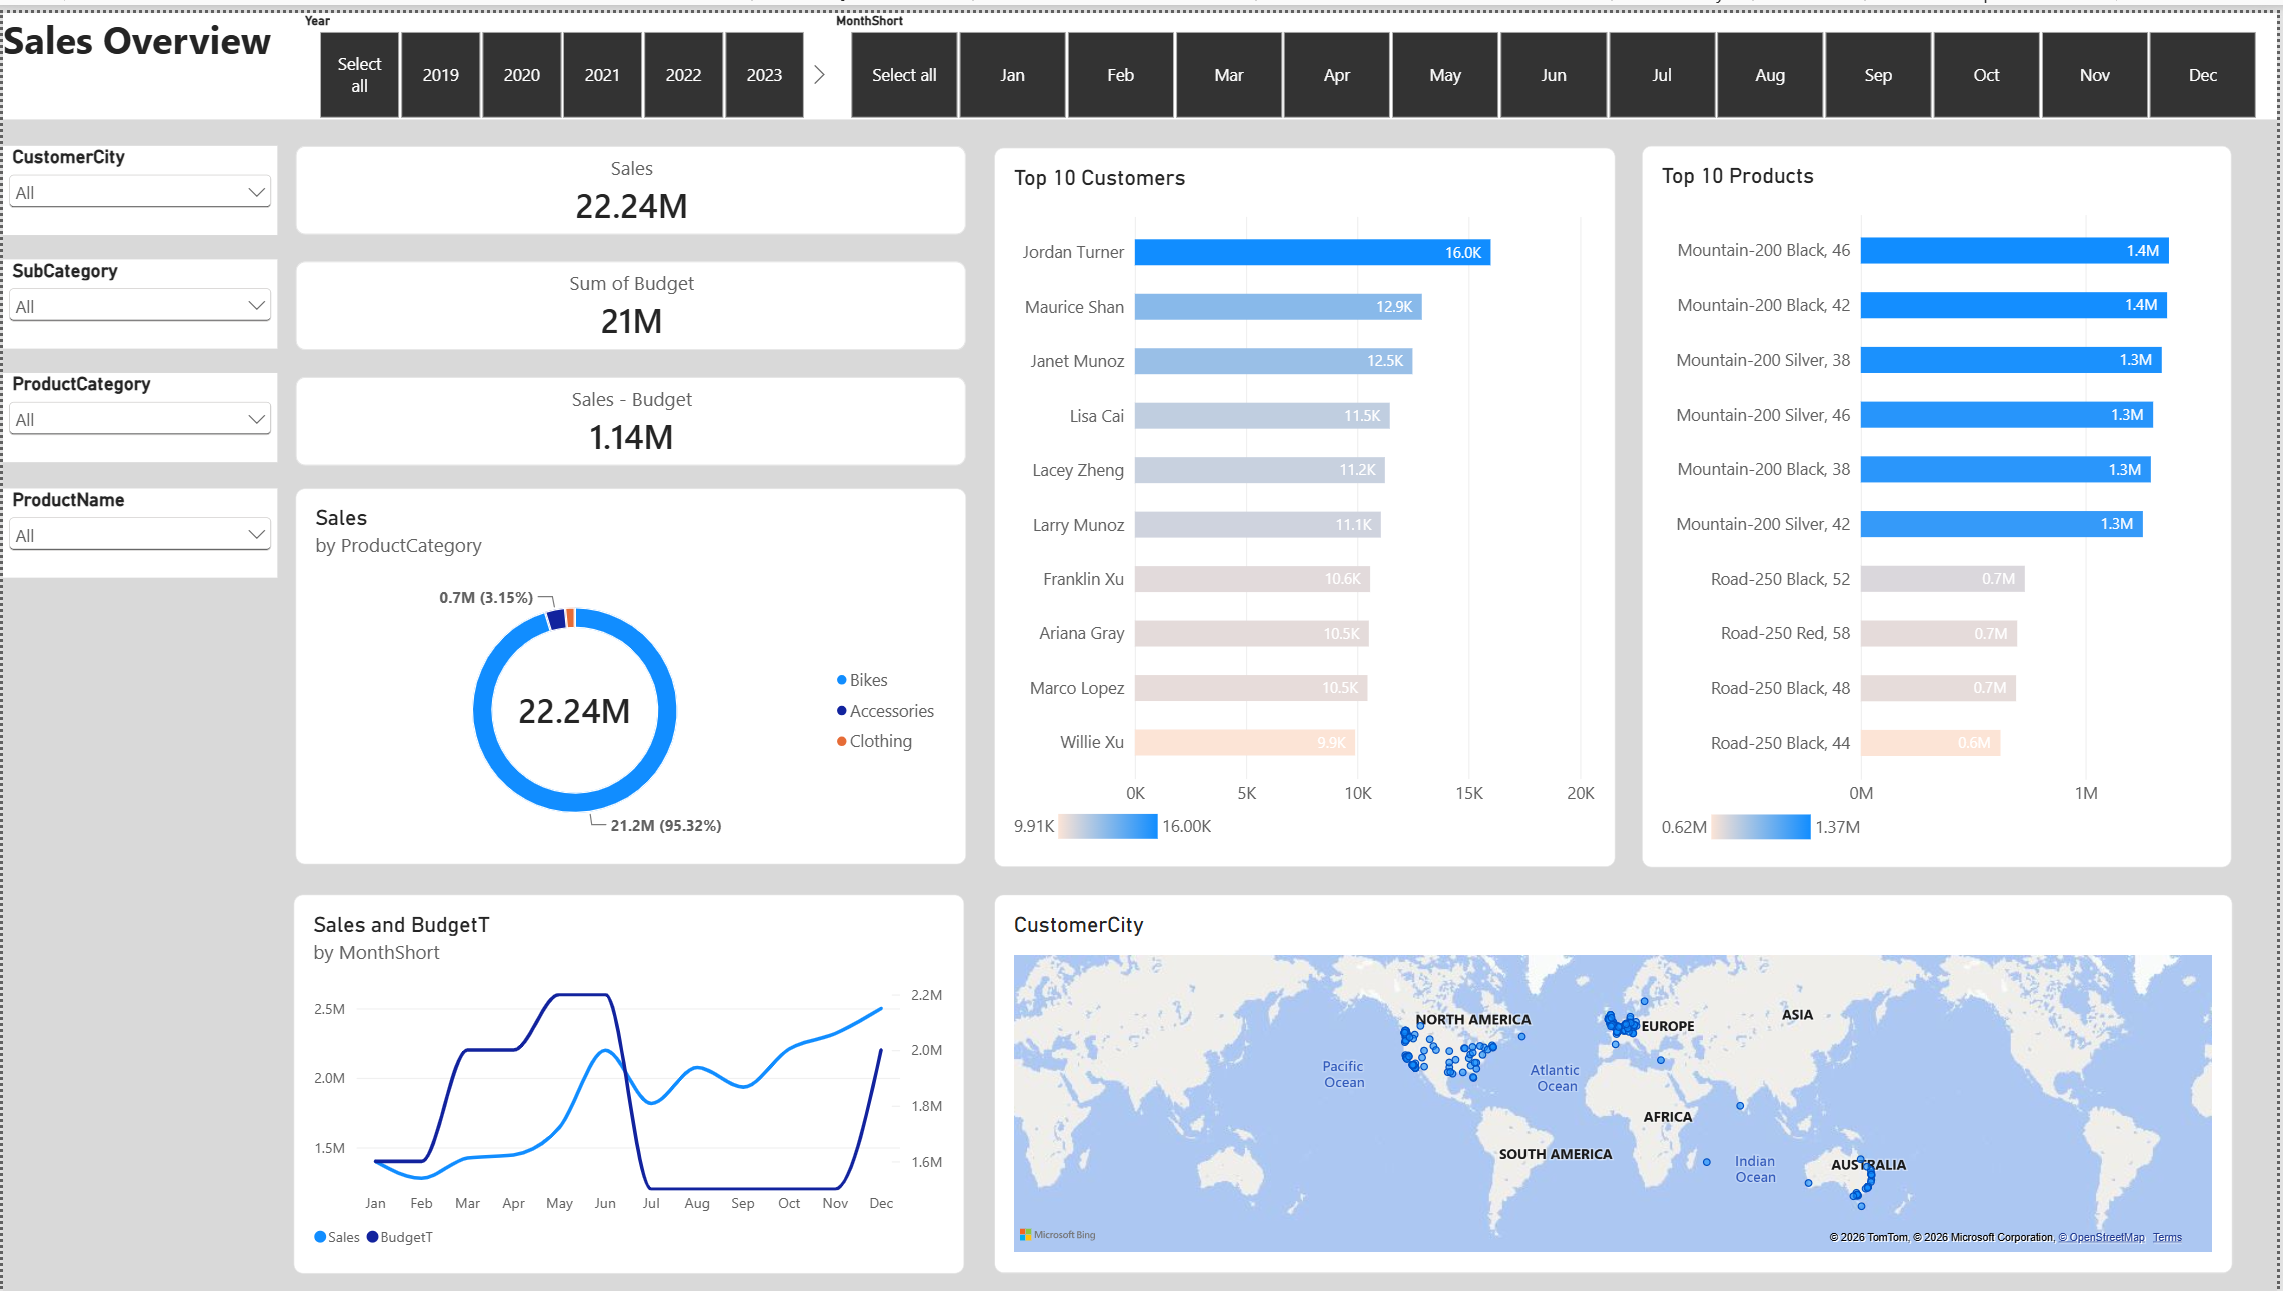

The dashboard page shown, as its layout file describes it:
{"tool":"powerbi","page":{"name":"Sales Overview ","canvas":[1920,1080],"ordinal":0},"visuals":[{"type":"textbox","box":[0,0,1919.9,90.1],"z":0},{"type":"slicer","fields":{"Values":["dim_customers.CustomerCity"]},"box":[0,111.5,231.7,75.1],"z":1000},{"type":"slicer","fields":{"Values":["dim_products.SubCategory"]},"box":[0,208.1,231.7,75.1],"z":2000},{"type":"slicer","fields":{"Values":["dim_products.ProductCategory"]},"box":[0,304.6,231.7,75.1],"z":3000},{"type":"slicer","fields":{"Values":["dim_products.ProductName"]},"box":[0,401.1,231.7,75.1],"z":4000},{"type":"slicer","fields":{"Values":["dim_calendar.Date.Variation.Date Hierarchy.Year"]},"box":[246.7,0,448.3,90.1],"z":5000},{"type":"slicer","fields":{"Values":["dim_calendar.MonthShort"]},"box":[695,0,1224.9,90.1],"z":6000},{"type":"cardVisual","fields":{"Data":["fact_internetSales.Sales"]},"box":[246.7,111.5,566.3,75.1],"z":7000},{"type":"cardVisual","fields":{"Data":["Sum(Fact_budget.Budget)"]},"box":[246.7,210.2,566.3,75.1],"z":8000},{"type":"cardVisual","fields":{"Data":["fact_internetSales.Sales - Budget"]},"box":[246.7,306.7,566.3,75.1],"z":9000},{"type":"donutChart","fields":{"Category":["dim_products.ProductCategory"],"Y":["Key Measures.Sales"]},"box":[246.7,401.1,566.3,317.5],"z":10000},{"type":"lineChart","fields":{"Category":["dim_calendar.MonthShort"],"Y":["Key Measures.Sales"],"Y2":["Key Measures.BudgetT"]},"box":[246,744,566,320],"z":11000},{"type":"barChart","title":"Top 10  Customers","fields":{"Category":["dim_customers.Full Name"],"Y":["Key Measures.Sales"]},"box":[836.6,113.7,523.4,607.1],"z":12000},{"type":"barChart","title":"Top 10 Products","fields":{"Category":["dim_products.ProductName"],"Y":["Key Measures.Sales"]},"box":[1383.6,111.5,497.7,609.2],"z":12001},{"type":"map","fields":{"Category":["dim_customers.CustomerCity"]},"box":[836.6,744.4,1044.7,319.6],"z":12002}]}

Visuals, with their boxes in screenshot pixels (x1, y1, x2, y2), scaled from the page's 1920x1080 canvas onto the 2283x1291 screenshot:
textbox: <region>0, 0, 2282, 108</region>
slicer - dim_customers.CustomerCity: <region>0, 133, 276, 223</region>
slicer - dim_products.SubCategory: <region>0, 249, 276, 339</region>
slicer - dim_products.ProductCategory: <region>0, 364, 276, 454</region>
slicer - dim_products.ProductName: <region>0, 479, 276, 569</region>
slicer - dim_calendar.Date.Variation.Date Hierarchy.Year: <region>293, 0, 826, 108</region>
slicer - dim_calendar.MonthShort: <region>826, 0, 2282, 108</region>
cardVisual - fact_internetSales.Sales: <region>293, 133, 967, 223</region>
cardVisual - Sum(Fact_budget.Budget): <region>293, 251, 967, 341</region>
cardVisual - fact_internetSales.Sales - Budget: <region>293, 367, 967, 456</region>
donutChart - dim_products.ProductCategory x Key Measures.Sales: <region>293, 479, 967, 859</region>
lineChart - dim_calendar.MonthShort x Key Measures.Sales: <region>293, 889, 966, 1272</region>
"Top 10  Customers" barChart: <region>995, 136, 1617, 862</region>
"Top 10 Products" barChart: <region>1645, 133, 2237, 862</region>
map - dim_customers.CustomerCity: <region>995, 890, 2237, 1272</region>
